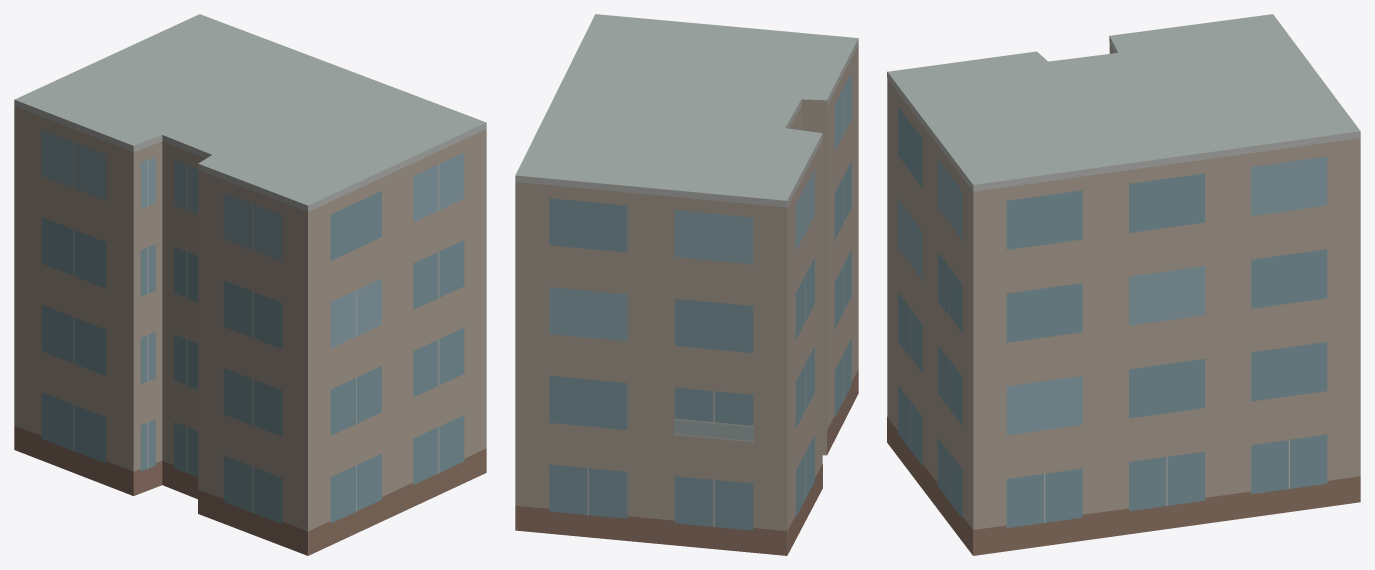
Rendered from survey-upis-32698185.glb.
3 views of the same model, side by side, from view 1: azimuth 30°, elevation 25°; view 2: azimuth 150°, elevation 25°; view 3: azimuth 270°, elevation 25° (orthographic). The views are drawn at different scales.
Parts seen in each view (by area): view 1: survey-upis-32698185.tmp; view 2: survey-upis-32698185.tmp; view 3: survey-upis-32698185.tmp.
Boxes of the visible parts, x1,y1,x2,y2 form: survey-upis-32698185.tmp: (14, 14, 486, 555); survey-upis-32698185.tmp: (515, 14, 858, 555); survey-upis-32698185.tmp: (887, 14, 1360, 555).
Bounding box in the file's own units: 13.21 × 13.35 × 15.45.
